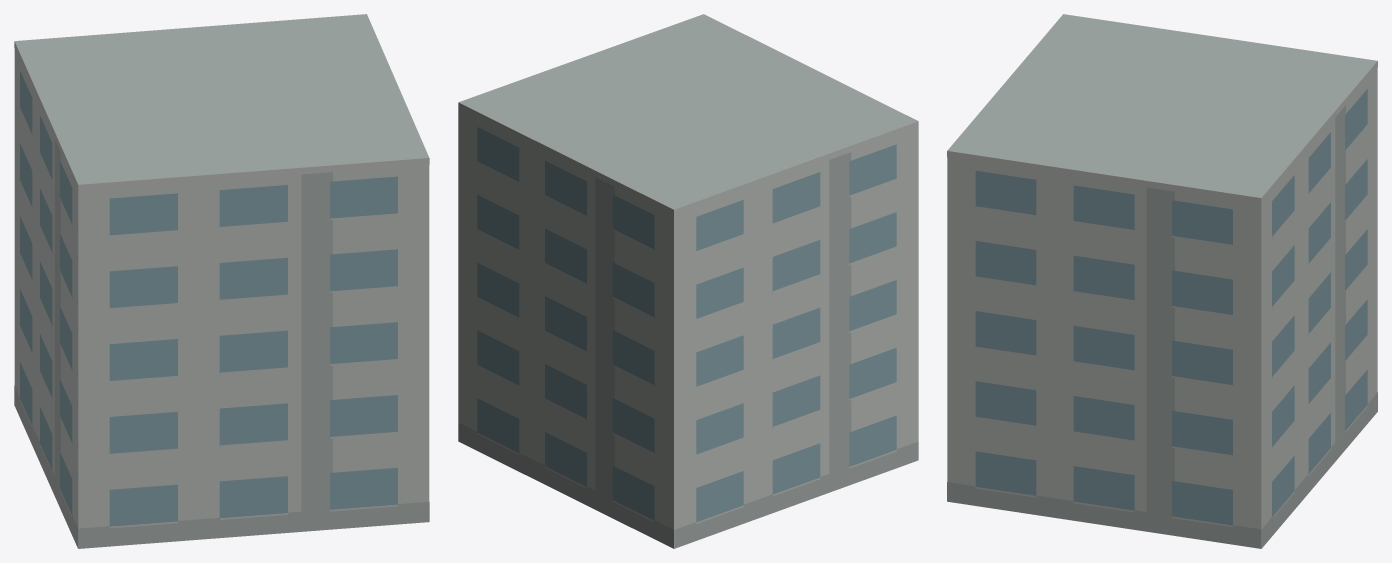
The model's file is survey-upis-32894372.glb.
3 renders of one model, left to right at view 1: azimuth 30°, elevation 25°; view 2: azimuth 150°, elevation 25°; view 3: azimuth 270°, elevation 25°, orthographic. The views are drawn at different scales.
Parts seen in each view (by area): view 1: survey-upis-32894372.tmp; view 2: survey-upis-32894372.tmp; view 3: survey-upis-32894372.tmp.
Boxes of the visible parts, bbox=[...] form: survey-upis-32894372.tmp: bbox=[14, 14, 429, 548]; survey-upis-32894372.tmp: bbox=[458, 14, 918, 548]; survey-upis-32894372.tmp: bbox=[947, 14, 1377, 548].
Bounding box in the file's own units: 14.75 × 13.1 × 14.59.
